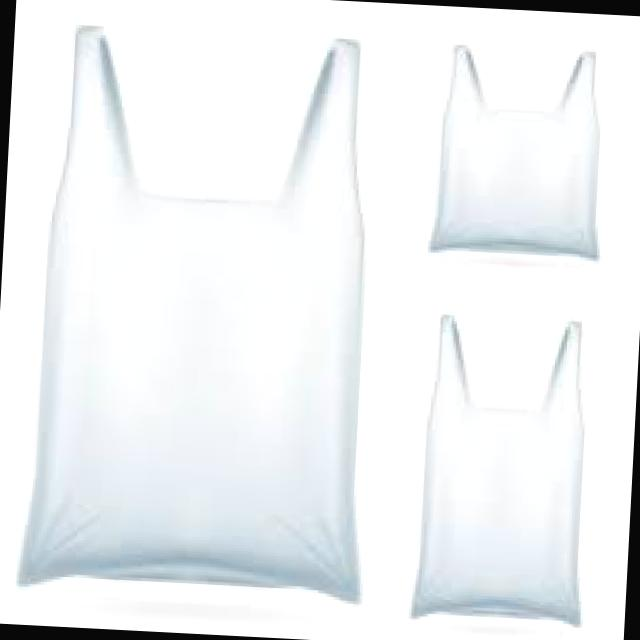plastic: (20, 29, 363, 600), (412, 319, 584, 624), (431, 46, 599, 257)
